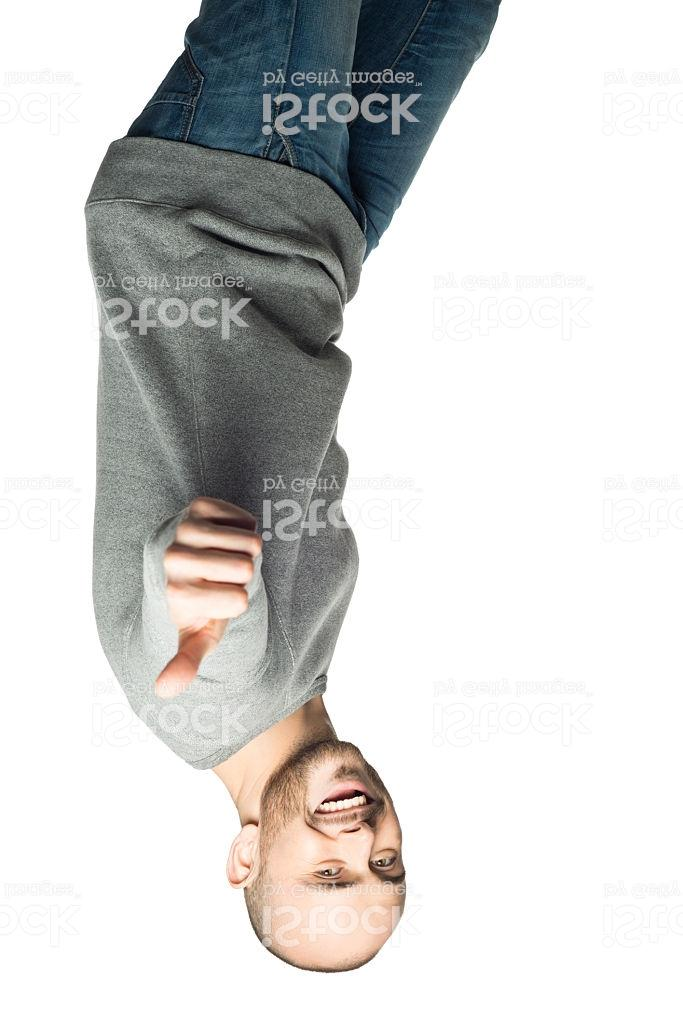thumbsdown: (150, 494, 267, 701)
